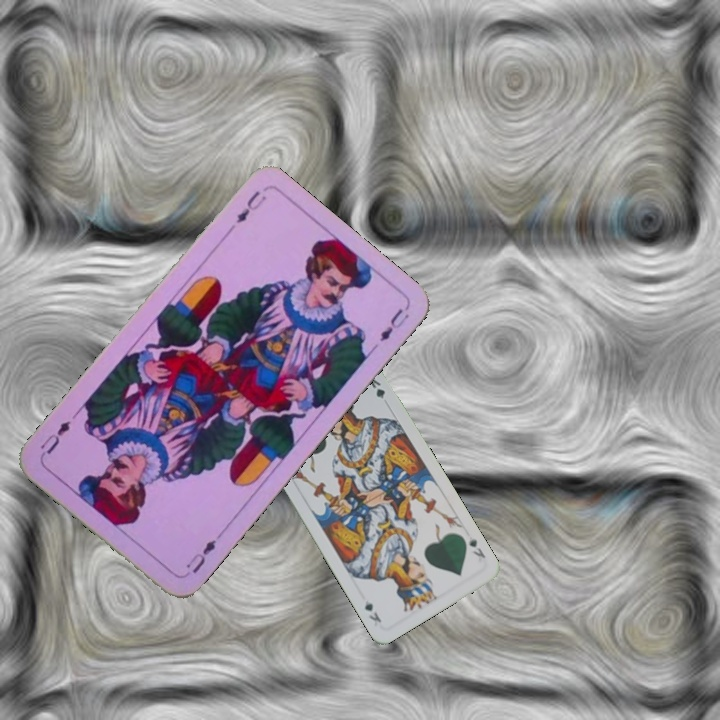EU: (182, 535, 219, 576), (232, 186, 269, 226)
GK: (464, 532, 488, 561)
